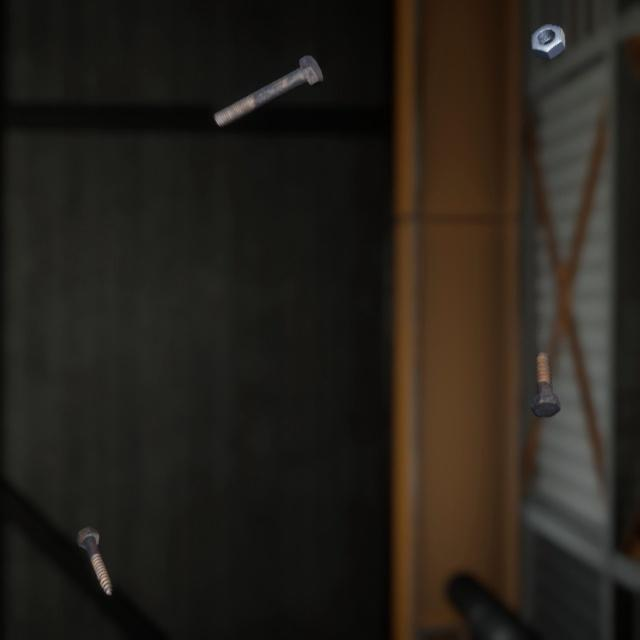bolt: (209, 38, 327, 119), (72, 500, 117, 576), (525, 329, 564, 402)
nut: (526, 10, 569, 55)
